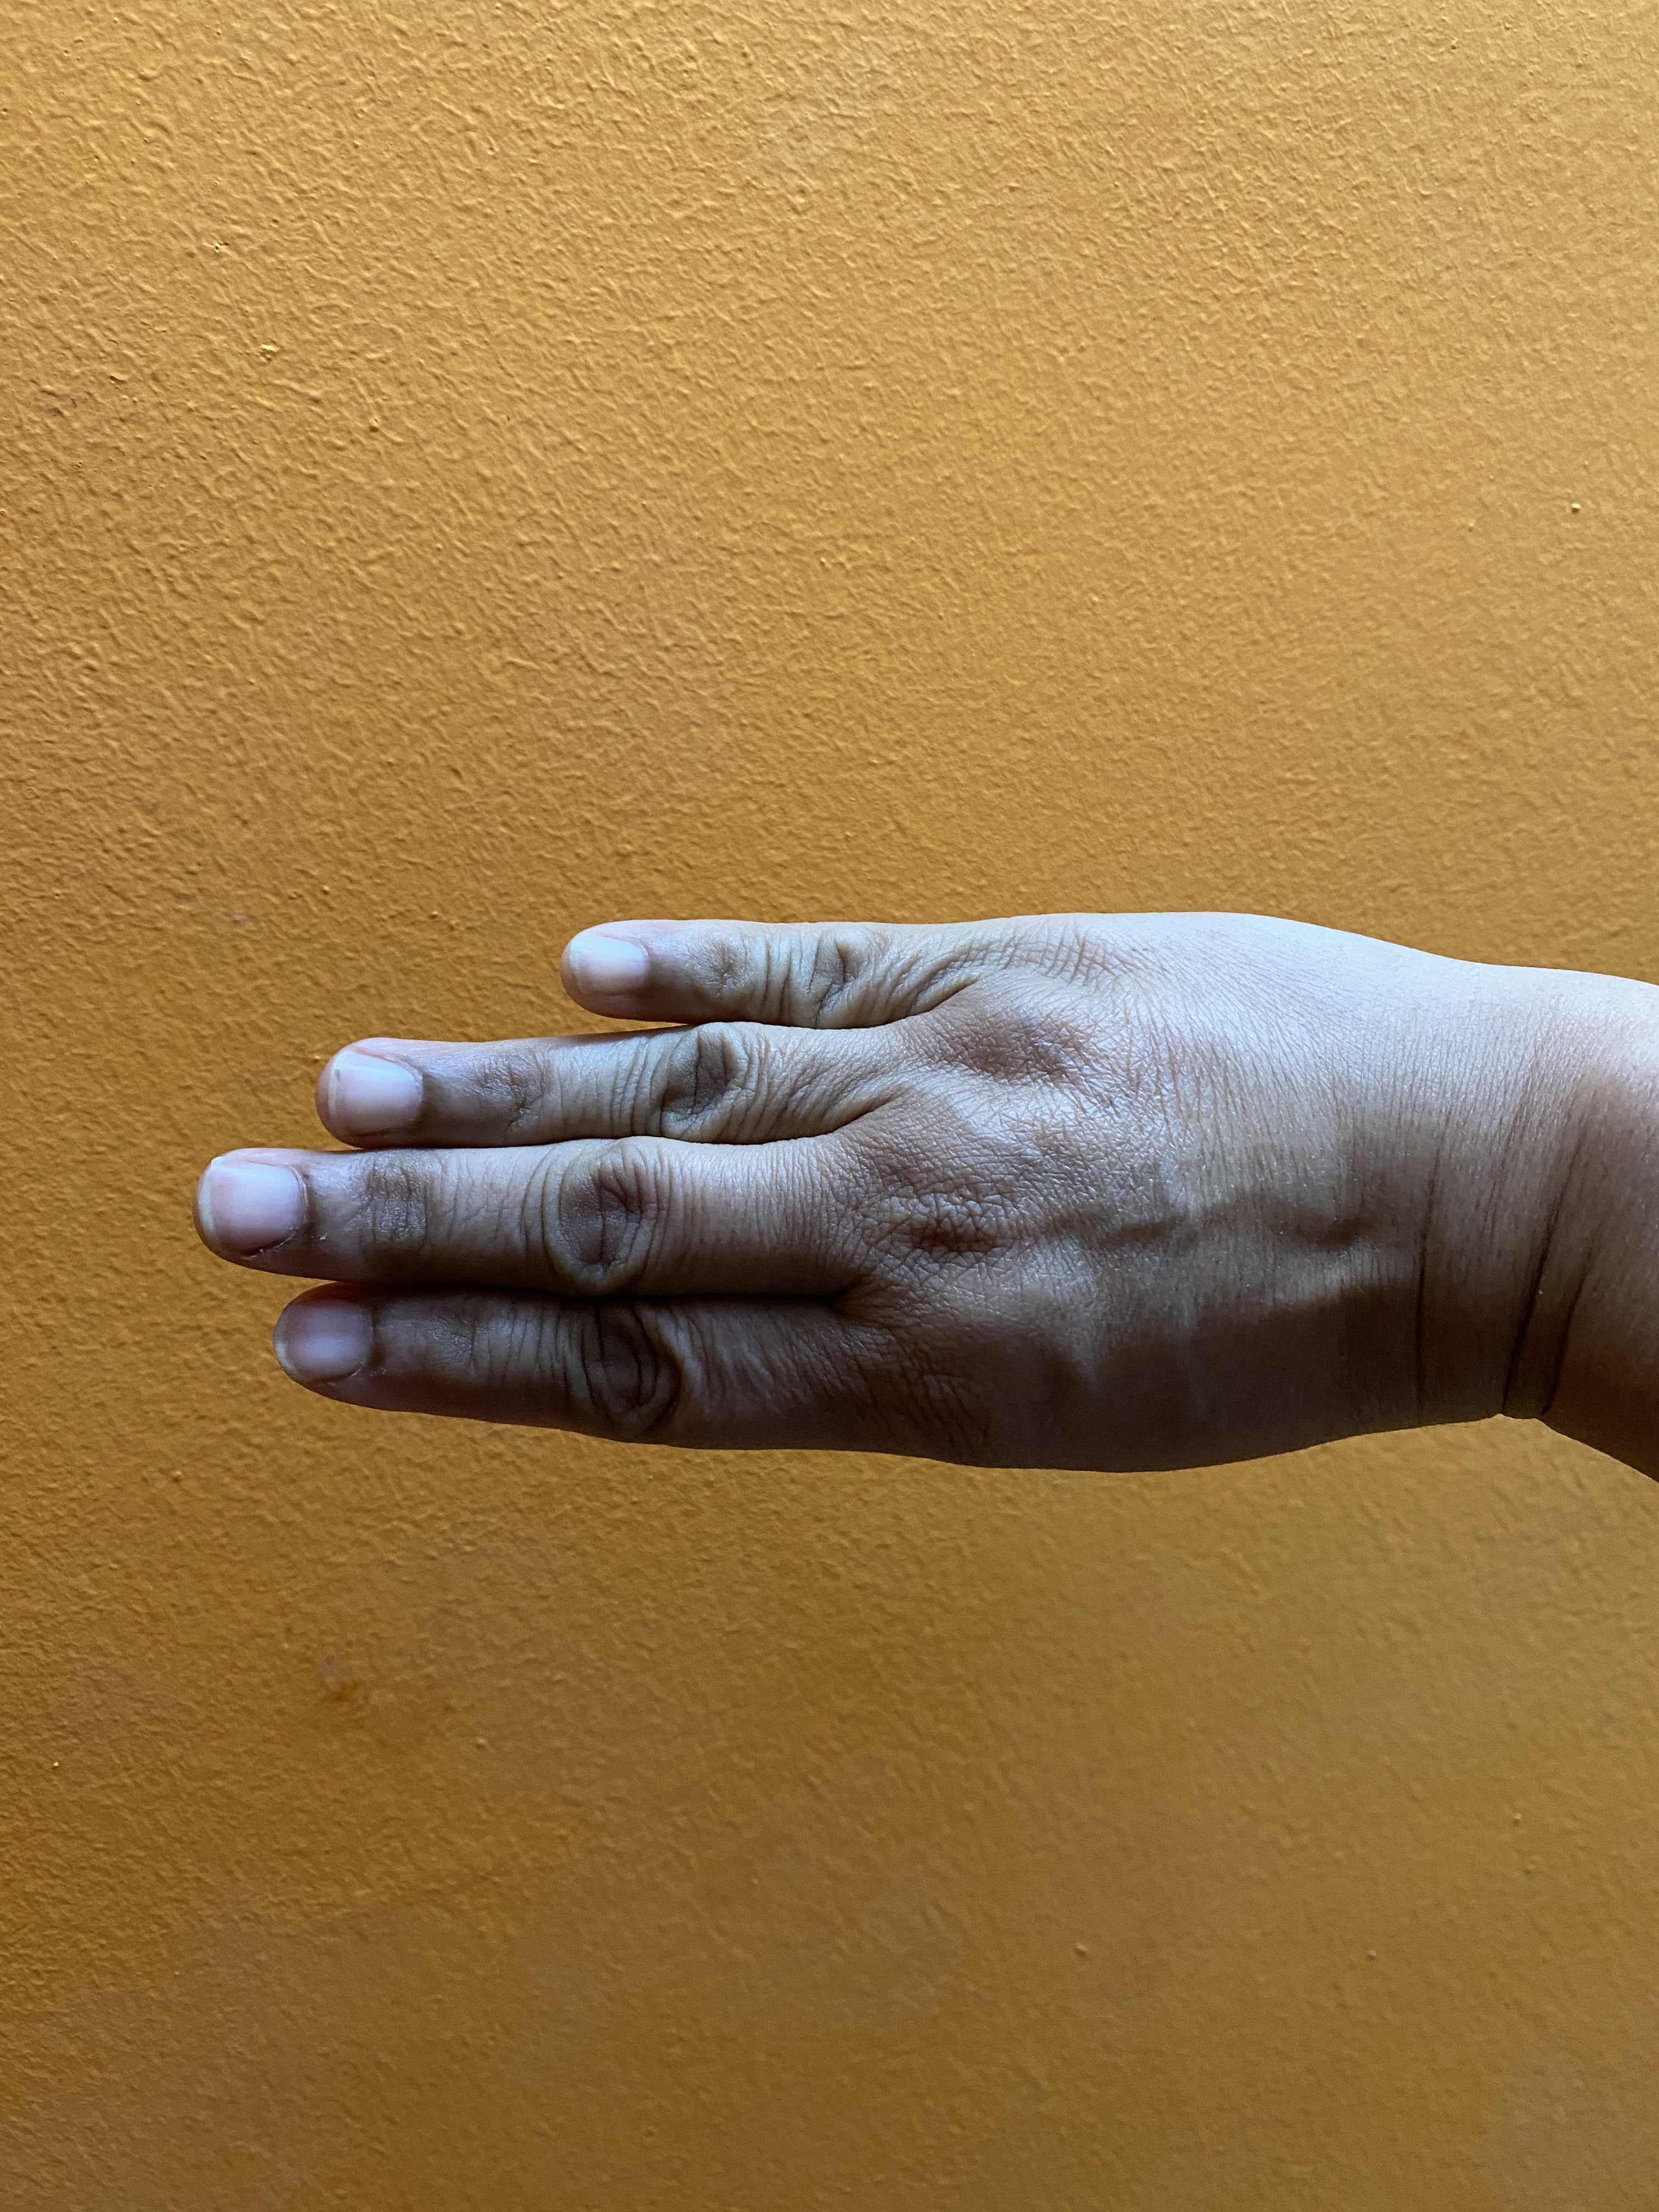right: (127, 662, 1659, 1656)
